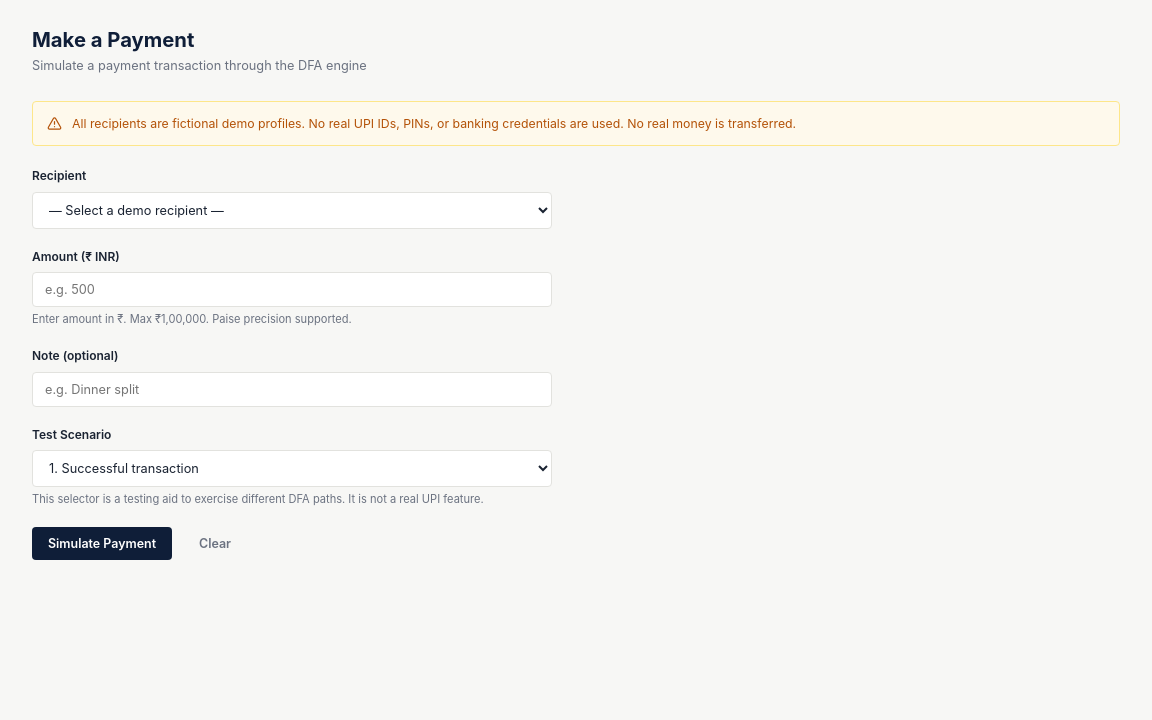
Test: Payment form › shows validation error when recipient is not selected
Click the button "Simulate Payment".
click(102, 543)  # box left=32, top=527, right=172, bottom=560
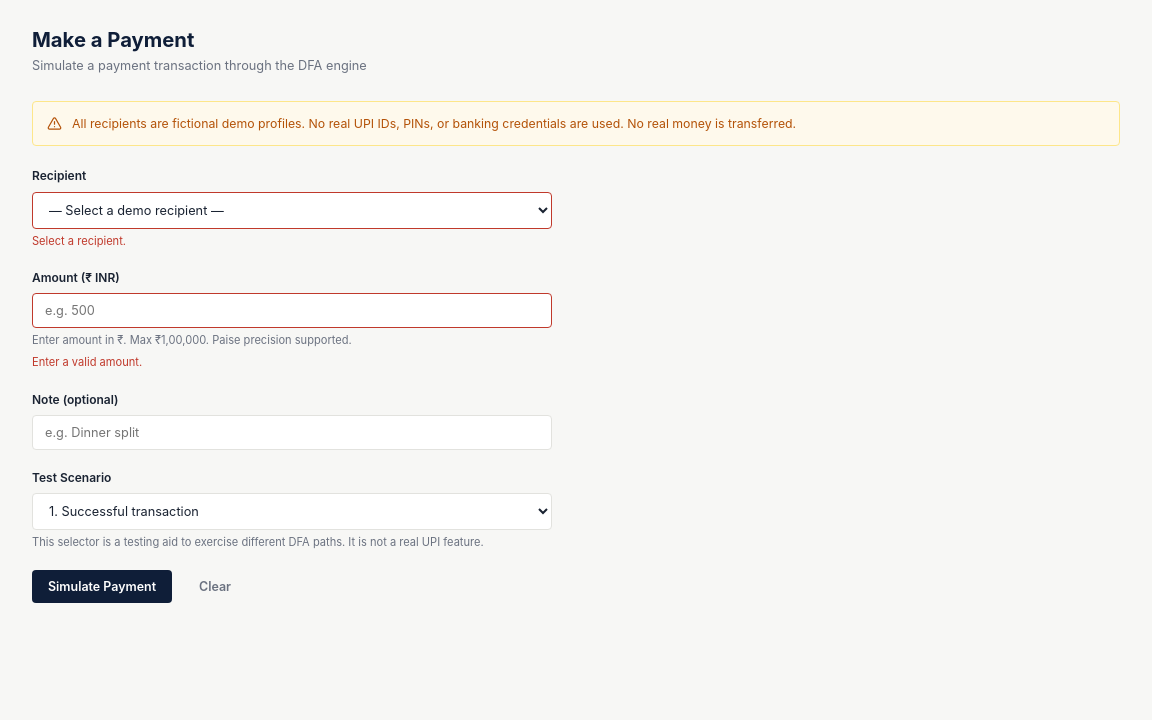
Expected: the text "Select a recipient." is shown, left=32, top=234, right=126, bottom=248
